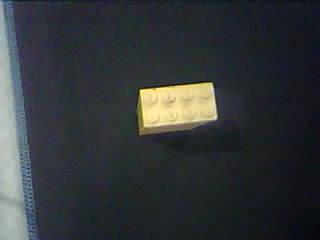lego: (134, 82, 217, 136)
